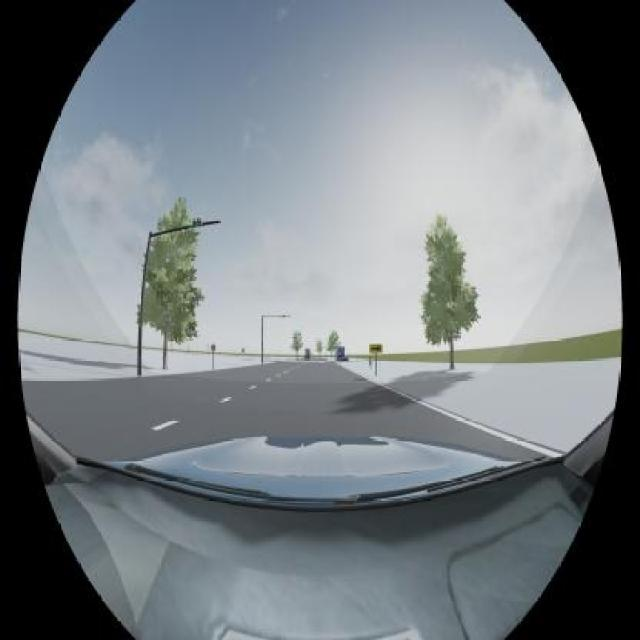forb_speed_over_30: (211, 343, 215, 351)
